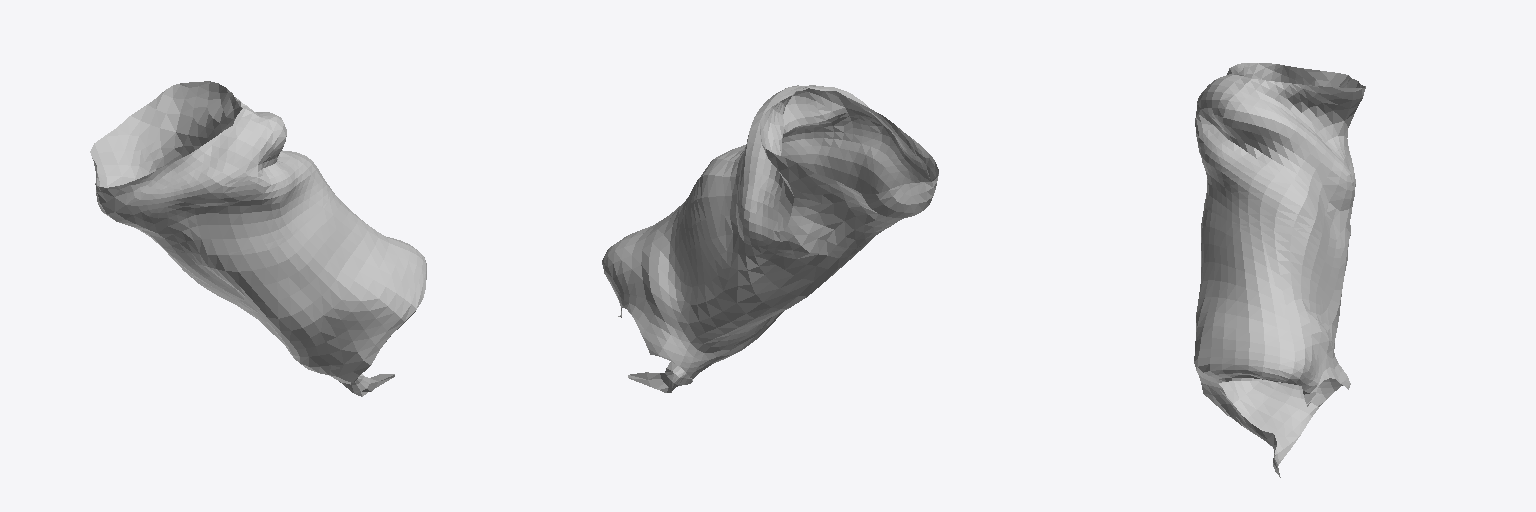
File: avant_bras_droit.obj
The picture shows the model from 3 angles: view 1: azimuth 30°, elevation 25°; view 2: azimuth 150°, elevation 25°; view 3: azimuth 270°, elevation 25°; orthographic projection.
Parts seen in each view (by area): view 1: 15548_French_Horseman_v1.013; view 2: 15548_French_Horseman_v1.013; view 3: 15548_French_Horseman_v1.013.
Part boxes in pixels (x1,y1,x2,y2): 15548_French_Horseman_v1.013: (90,81,426,396); 15548_French_Horseman_v1.013: (602,85,938,392); 15548_French_Horseman_v1.013: (1194,63,1365,477).
Size of the model in its own units: 1.2 by 1.16 by 0.5482.